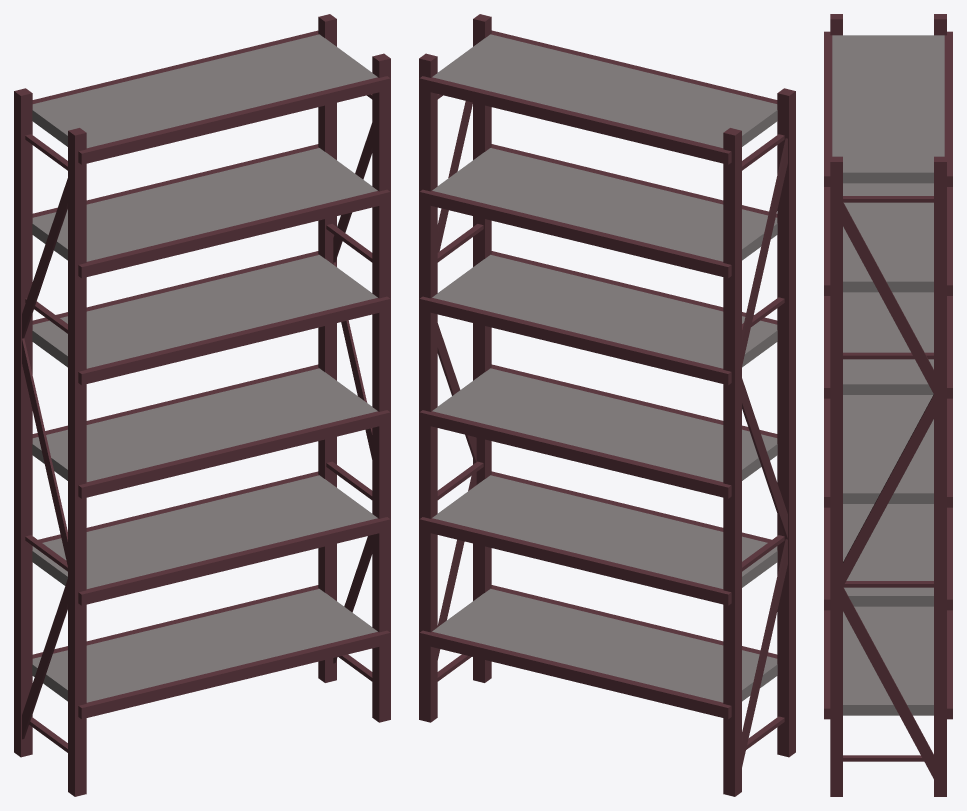
Rendered from storage-large-a.fbx.
3 views of the same model, side by side, from view 1: azimuth 30°, elevation 25°; view 2: azimuth 150°, elevation 25°; view 3: azimuth 270°, elevation 25° (orthographic). The views are drawn at different scales.
Parts seen in each view (by area): view 1: storage-large-a; view 2: storage-large-a; view 3: storage-large-a.
Boxes of the visible parts, x1,y1,x2,y2 form: storage-large-a: [14, 14, 390, 796]; storage-large-a: [419, 14, 795, 796]; storage-large-a: [824, 14, 952, 796].
Bounding box in the file's own units: 1.5 × 3 × 0.552.
